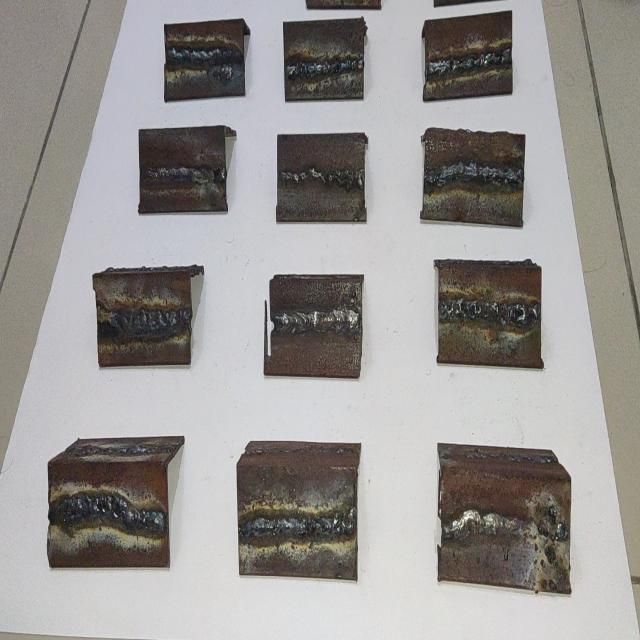Defect: (441, 296, 542, 326), (536, 496, 569, 574), (216, 43, 244, 82), (98, 303, 124, 339), (330, 164, 358, 194)
Welding Line: (54, 499, 166, 531), (242, 513, 354, 541), (278, 308, 358, 332), (428, 168, 524, 188), (429, 50, 512, 73), (444, 518, 528, 536), (121, 311, 189, 332), (166, 46, 244, 64), (286, 59, 364, 76), (278, 171, 364, 186), (142, 168, 225, 183)
Workpiece: (441, 468, 572, 602), (236, 467, 358, 589), (47, 459, 171, 569), (438, 262, 542, 366), (265, 281, 362, 384), (428, 130, 524, 230), (92, 274, 192, 364), (276, 130, 368, 222), (138, 124, 226, 214), (425, 19, 513, 99), (282, 20, 366, 100), (162, 20, 245, 100)
